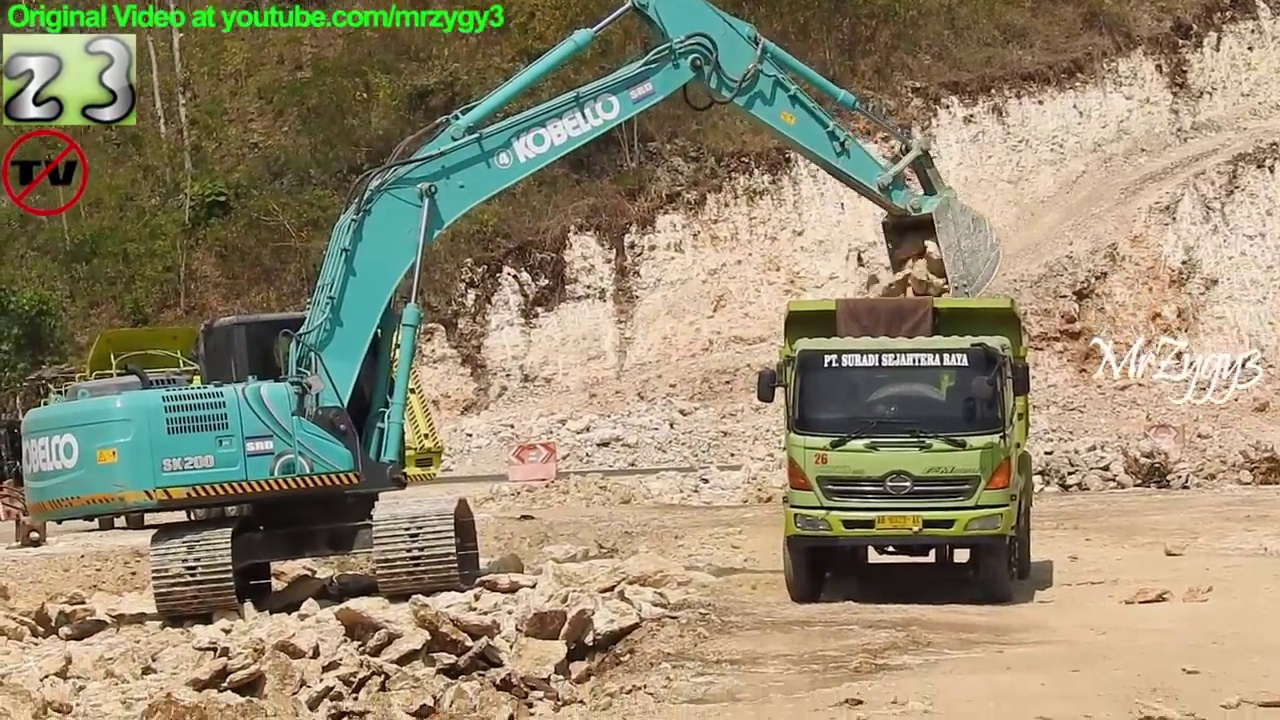excavator: (13, 1, 1010, 626)
truck: (3, 317, 451, 536), (754, 298, 1036, 605)
